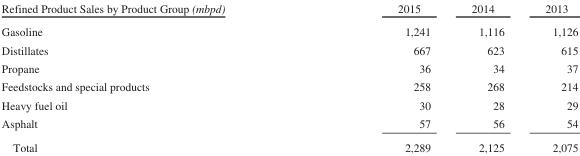table: (0, 1, 577, 153)
table column: (0, 1, 310, 153), (310, 1, 450, 153), (450, 1, 524, 153), (524, 1, 577, 153)
table column header: (0, 1, 577, 19)
table row: (0, 19, 577, 40), (0, 114, 577, 135), (0, 58, 577, 77), (0, 95, 577, 114), (0, 1, 577, 19), (0, 40, 577, 58), (0, 77, 577, 95), (0, 135, 577, 153)
